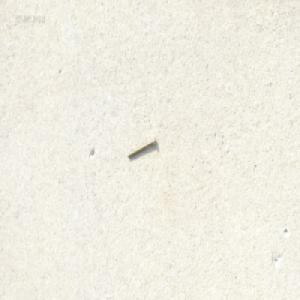Bolt: (126, 135, 155, 157)
